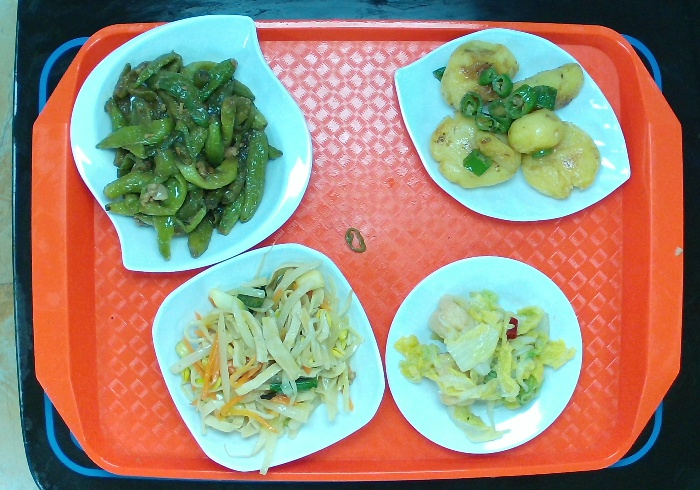RJxy-Da_Du_Pan: (383, 24, 634, 228)
RJxy-Shuang_Jiao_Pan: (70, 10, 320, 279)
RJxy-Si_Fang_Wan: (144, 236, 390, 479)
RJxy-Xiao_Yuan_Die: (380, 248, 591, 463)
